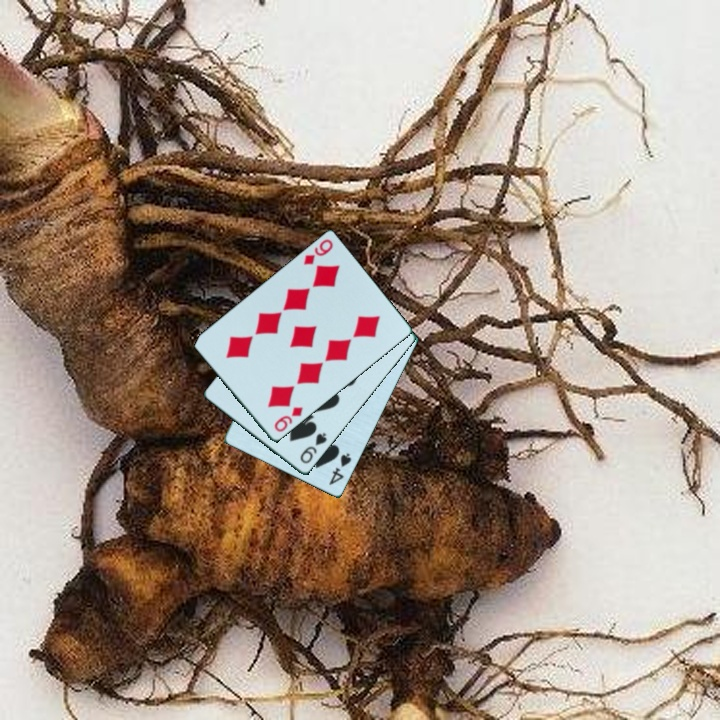4s: (326, 450, 355, 488)
9d: (300, 236, 336, 268), (271, 404, 306, 435)
9s: (296, 429, 330, 467)
